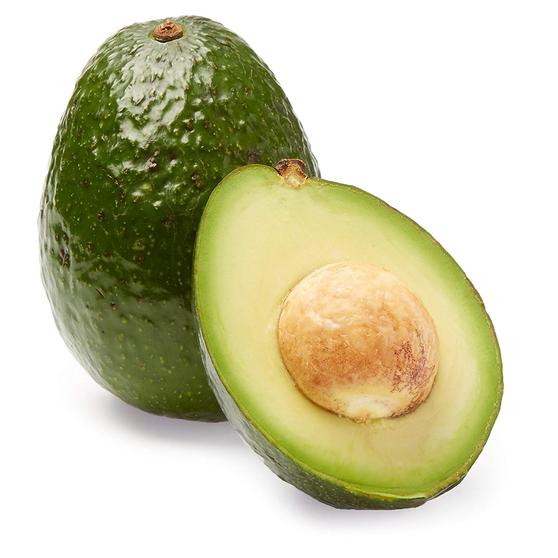avocado: (42, 14, 329, 437)
